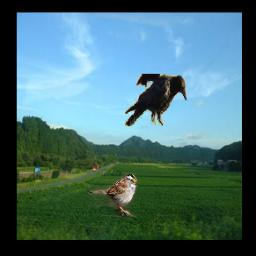Crow: (125, 75, 187, 127)
Sparrow: (88, 174, 137, 218)
